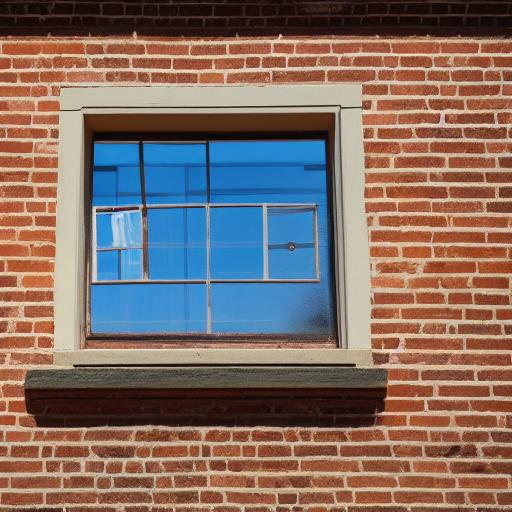Window: (20, 82, 394, 410)
